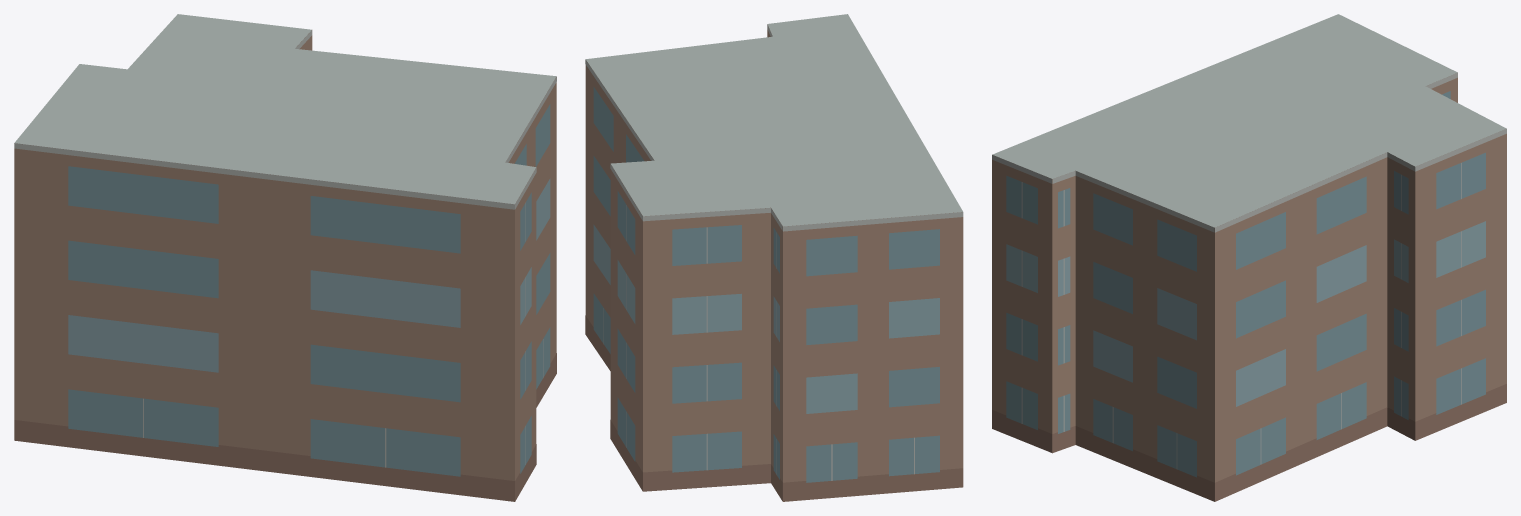
The model's file is survey-upis-32713105.glb.
3 renders of one model, left to right at view 1: azimuth 30°, elevation 25°; view 2: azimuth 150°, elevation 25°; view 3: azimuth 270°, elevation 25°, orthographic. The views are drawn at different scales.
Parts seen in each view (by area): view 1: survey-upis-32713105.tmp; view 2: survey-upis-32713105.tmp; view 3: survey-upis-32713105.tmp.
Part boxes in pixels (bbox=[...]): survey-upis-32713105.tmp: bbox=[14, 14, 556, 501]; survey-upis-32713105.tmp: bbox=[585, 14, 963, 501]; survey-upis-32713105.tmp: bbox=[992, 14, 1506, 501].
Size of the model in its own units: 22.34 by 13.36 by 22.74.
